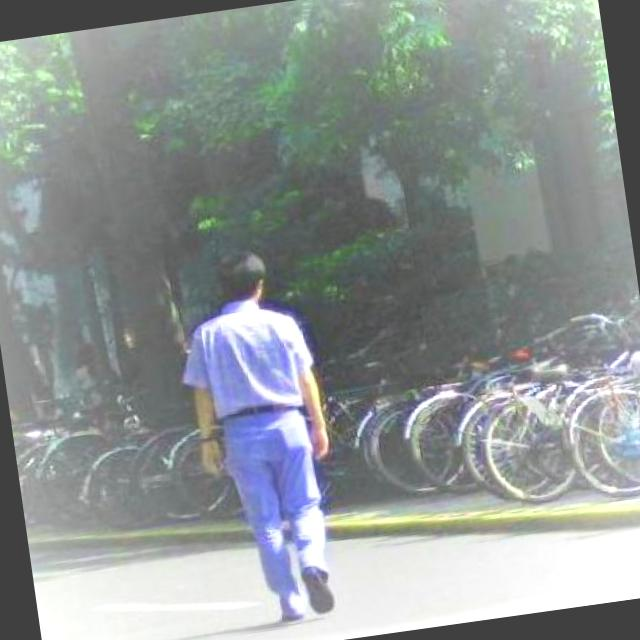Person: (166, 240, 357, 640)
